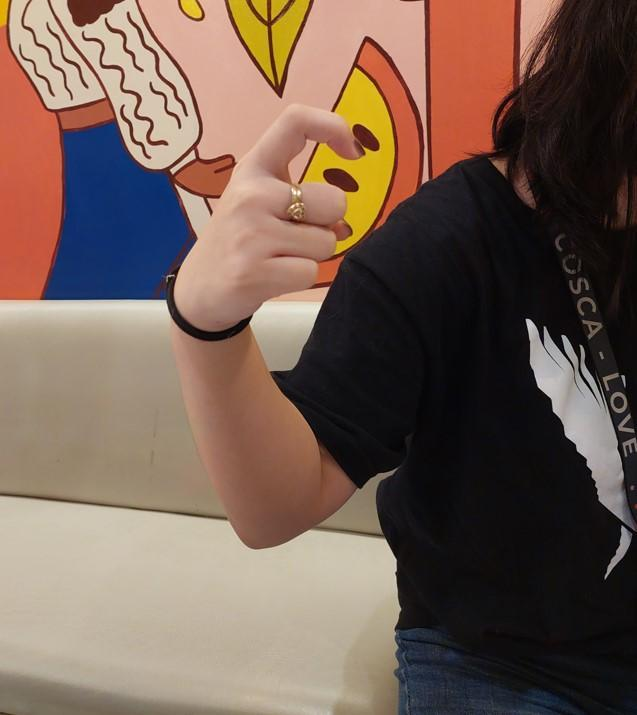x: (171, 100, 368, 332)
